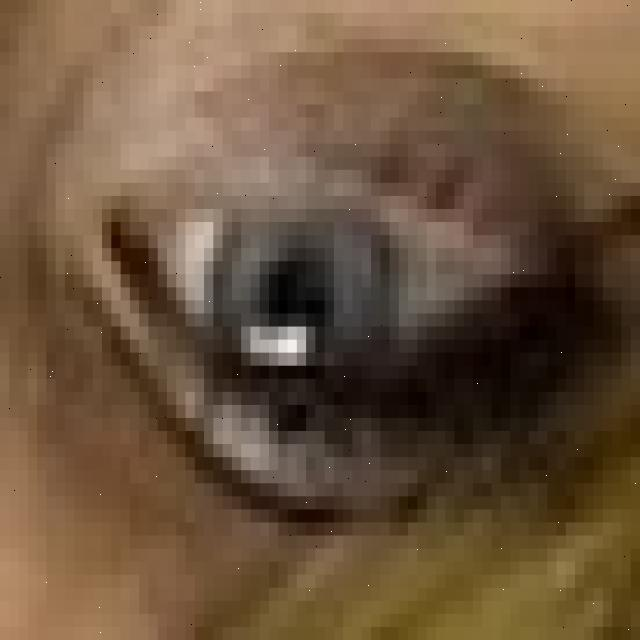Normal: (208, 176, 401, 418)
